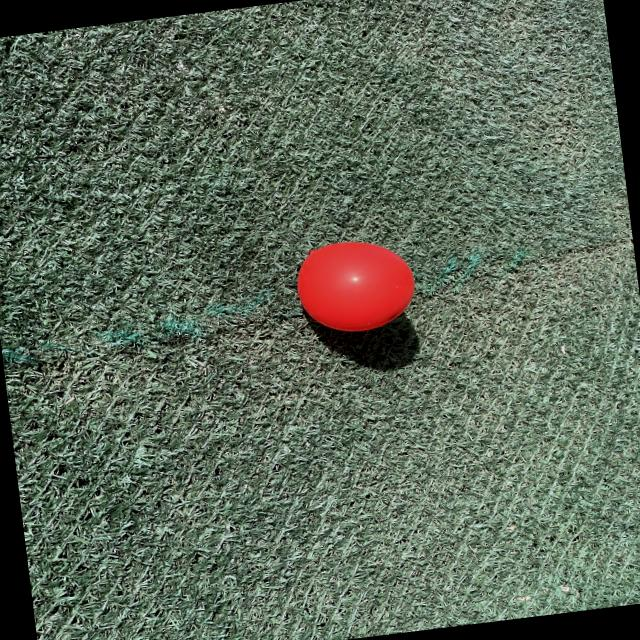balloon: (297, 242, 414, 331)
